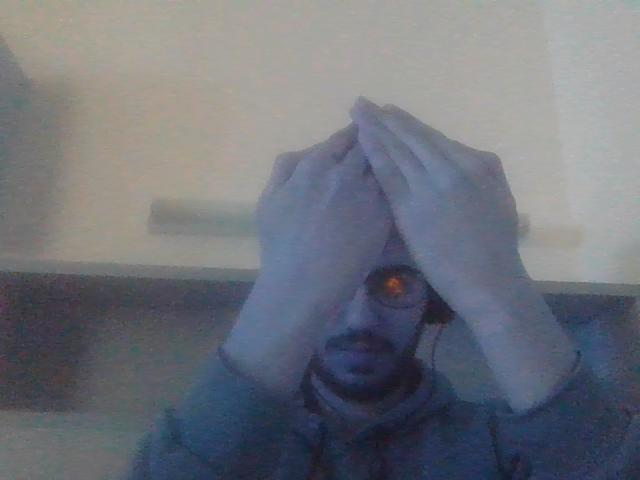thank you: (247, 85, 534, 317)
